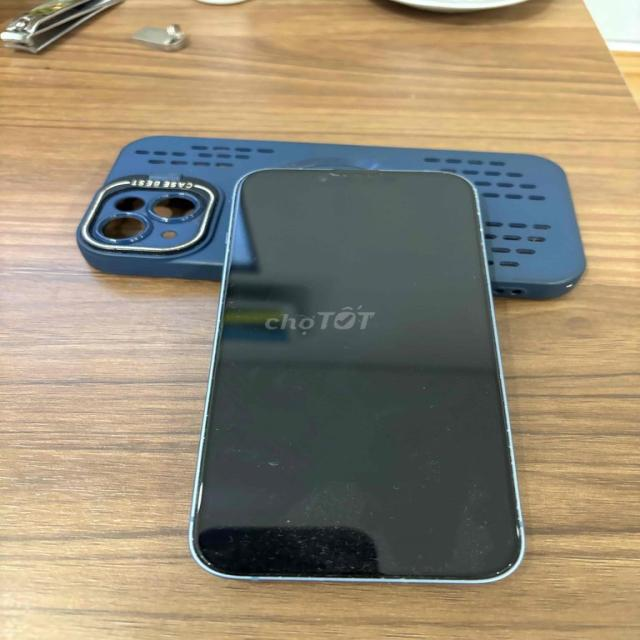gen_14: (169, 159, 527, 583)
scratch: (281, 158, 414, 190), (410, 378, 462, 433), (243, 448, 295, 474)
